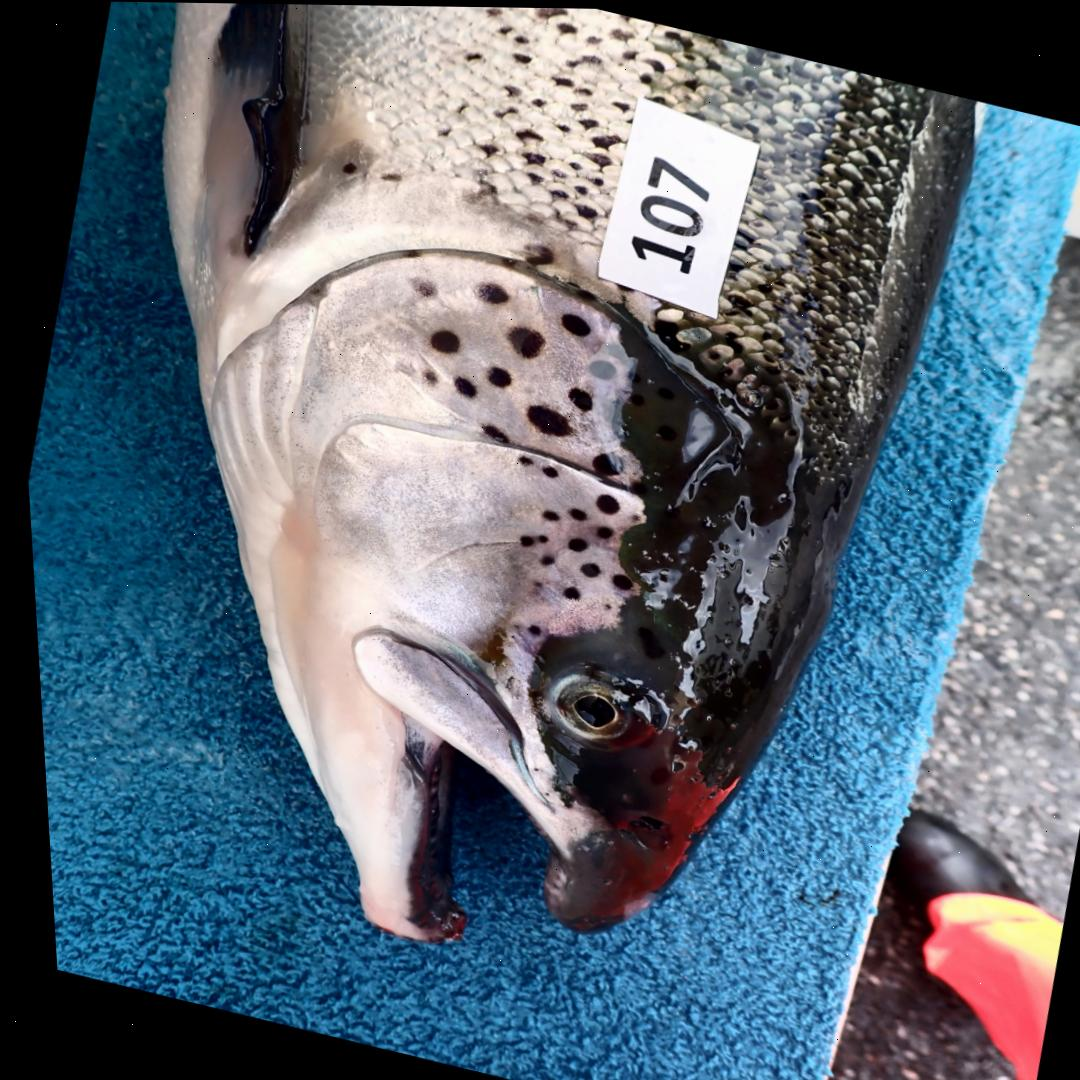spot: (520, 402, 565, 435), (502, 323, 540, 356), (425, 327, 455, 352), (587, 450, 617, 473), (472, 280, 504, 301), (557, 311, 586, 334), (584, 356, 611, 377), (564, 385, 588, 408), (482, 364, 506, 385), (449, 374, 472, 395), (589, 491, 612, 512), (476, 422, 501, 439), (409, 276, 431, 294), (573, 559, 594, 575), (604, 571, 624, 587), (560, 536, 581, 550), (622, 506, 639, 522), (589, 523, 607, 536), (563, 505, 581, 518), (555, 584, 572, 597), (536, 462, 553, 475), (536, 508, 552, 519), (512, 533, 527, 544), (419, 369, 432, 381), (532, 553, 546, 564), (521, 621, 534, 632), (511, 453, 526, 462), (524, 577, 536, 587), (593, 599, 604, 608), (530, 533, 541, 540), (506, 622, 511, 626), (504, 632, 507, 637)
